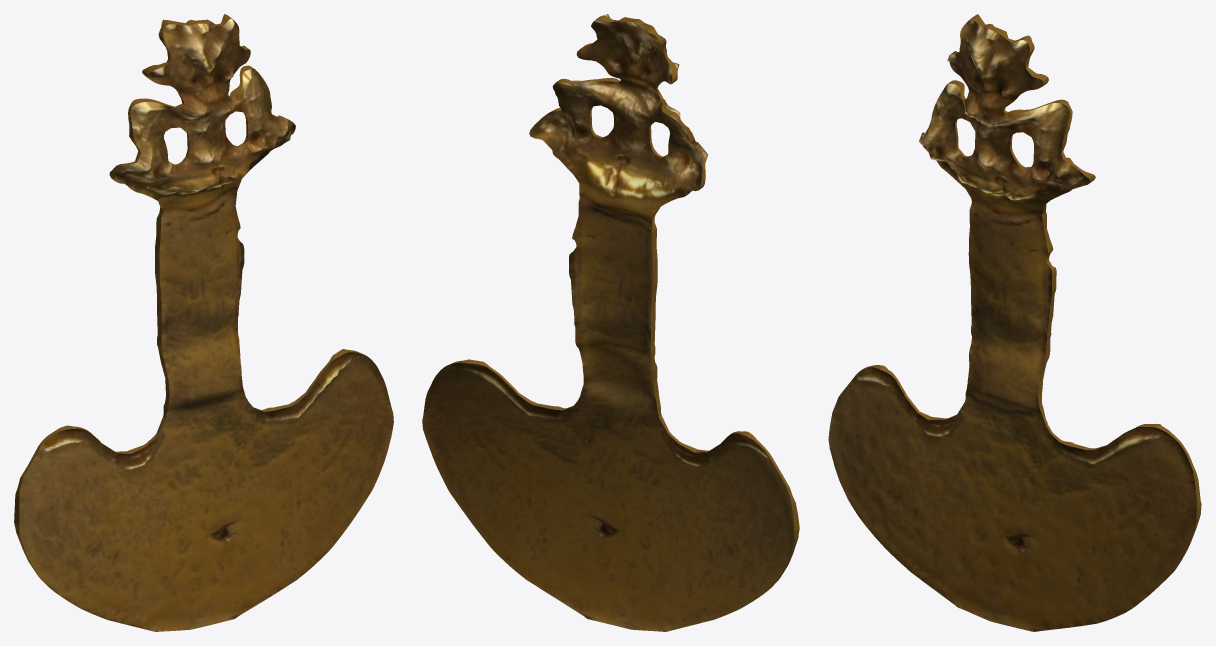
The model's file is pinzas.glb.
3 views of the same model, side by side, from view 1: azimuth 30°, elevation 25°; view 2: azimuth 150°, elevation 25°; view 3: azimuth 330°, elevation 25° (orthographic). The views are drawn at different scales.
Parts seen in each view (by area): view 1: pinzas; view 2: pinzas; view 3: pinzas.
Part boxes in pixels (left/top/right/bottom): pinzas: left=14, top=14, right=393, bottom=631; pinzas: left=422, top=14, right=799, bottom=631; pinzas: left=828, top=14, right=1201, bottom=631.
Size of the model in its own units: 3.54 by 5.49 by 0.4461.
Materials: 1 (1 with a texture image).
